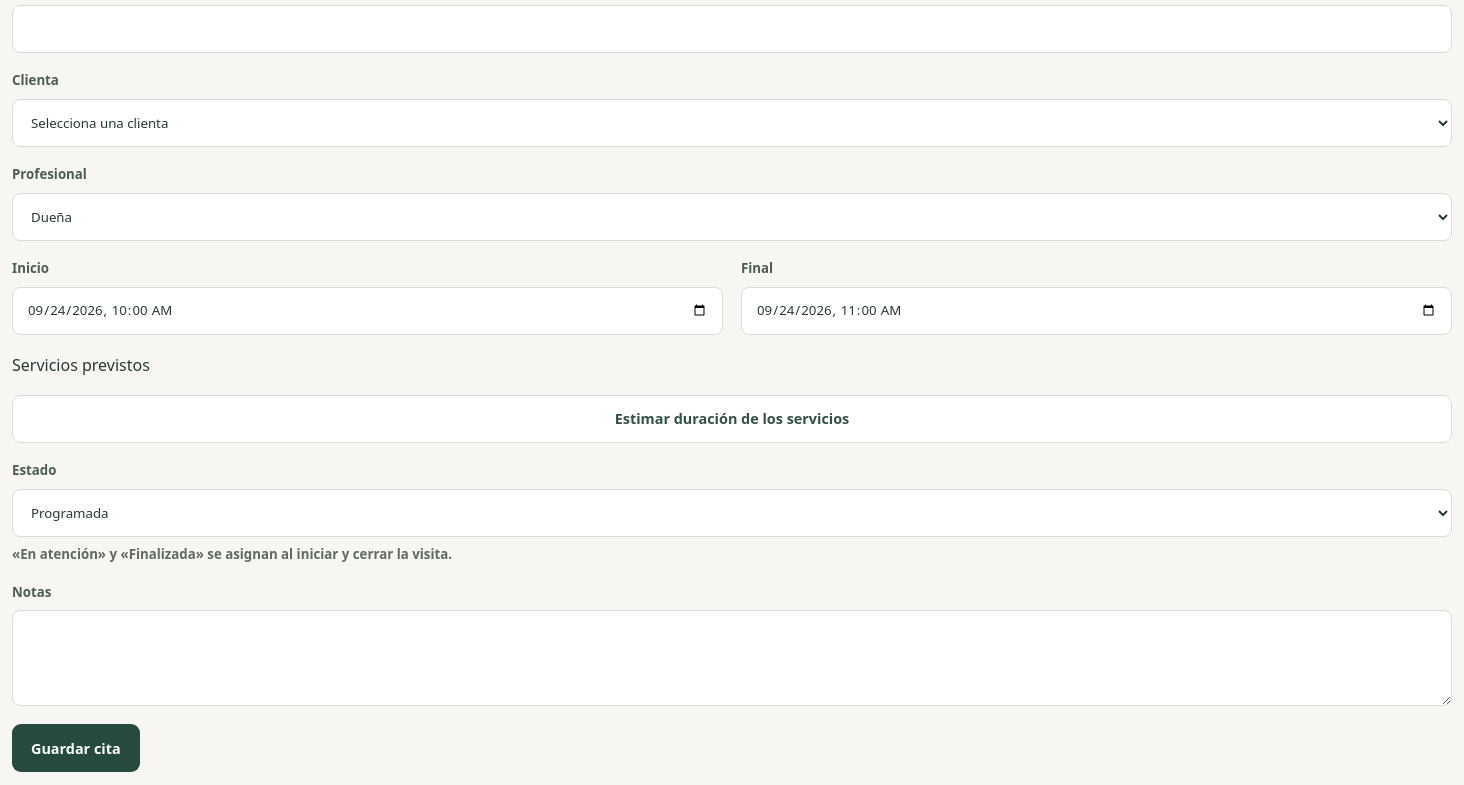
Test case: Editor de citas › exige clienta con un mensaje junto al campo
(page scrolled)
Click the button "Guardar cita": x=76, y=748 [12, 724, 140, 772]
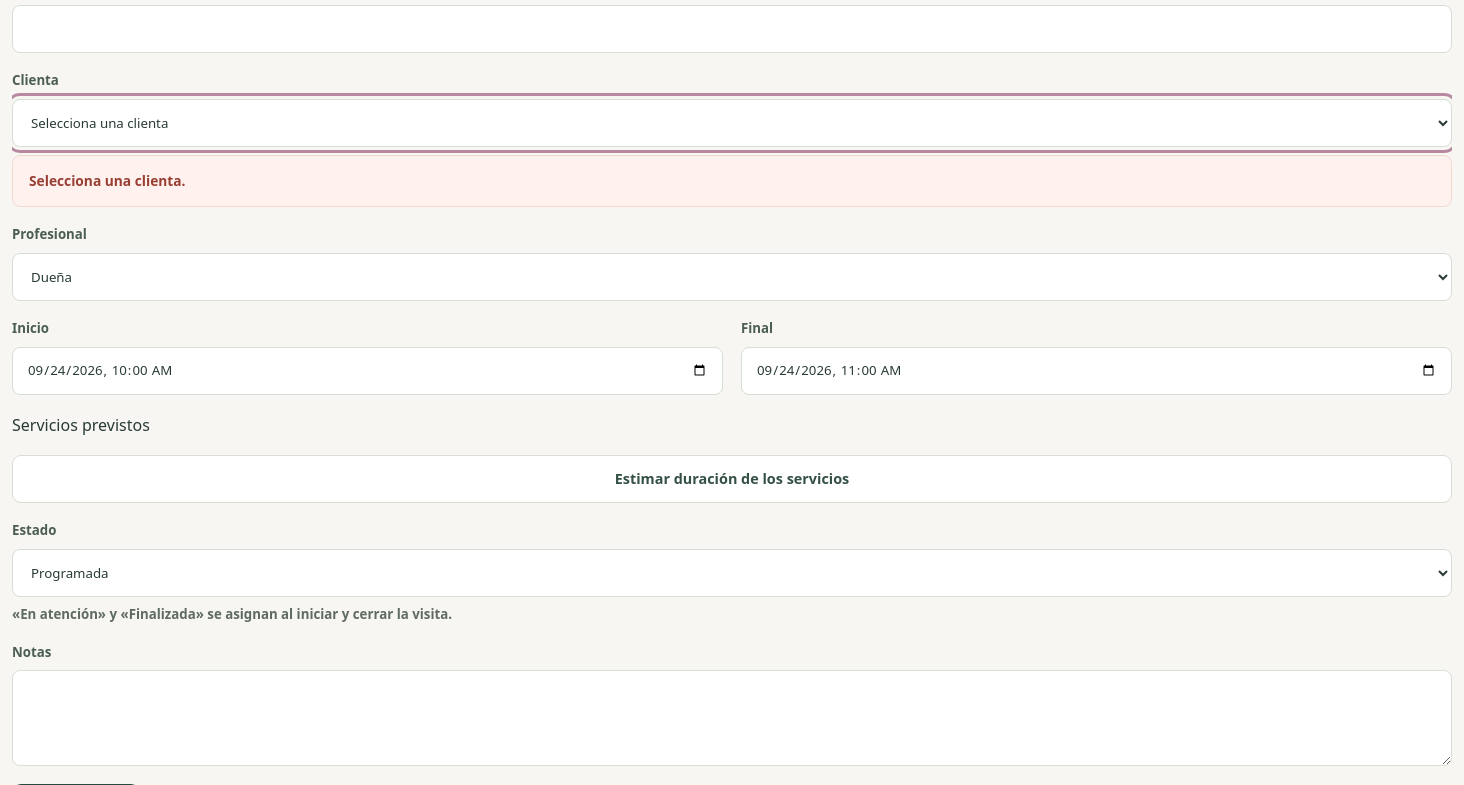
Check: the text "Selecciona una clienta." is shown, box [12, 155, 1452, 207]
